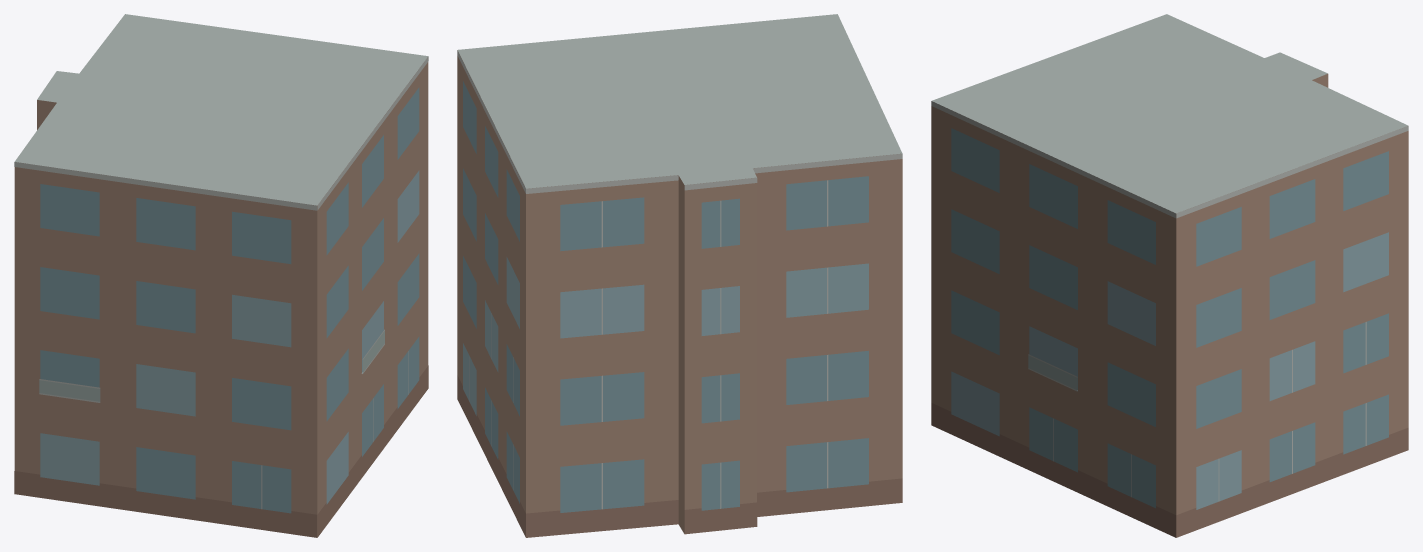
Rendered from survey-upis-32864648.glb.
3 views of the same model, side by side, from view 1: azimuth 30°, elevation 25°; view 2: azimuth 150°, elevation 25°; view 3: azimuth 270°, elevation 25° (orthographic). The views are drawn at different scales.
Visible parts, largest first — view 1: survey-upis-32864648.tmp; view 2: survey-upis-32864648.tmp; view 3: survey-upis-32864648.tmp.
Boxes of the visible parts, x1,y1,x2,y2 form: survey-upis-32864648.tmp: (14,14,428,537); survey-upis-32864648.tmp: (457,14,902,537); survey-upis-32864648.tmp: (931,14,1408,537).
Size of the model in its own units: 20.85 by 15.8 by 21.07.
